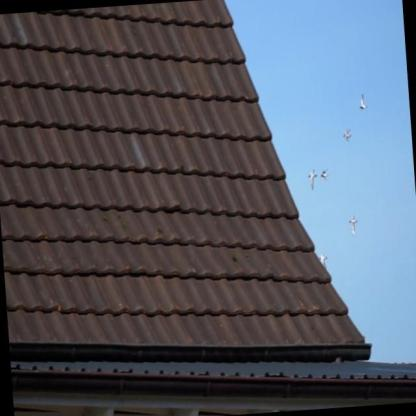bird: (317, 252, 330, 273), (307, 168, 318, 191), (348, 213, 359, 236), (358, 92, 368, 111), (320, 167, 331, 182), (342, 128, 352, 143)
